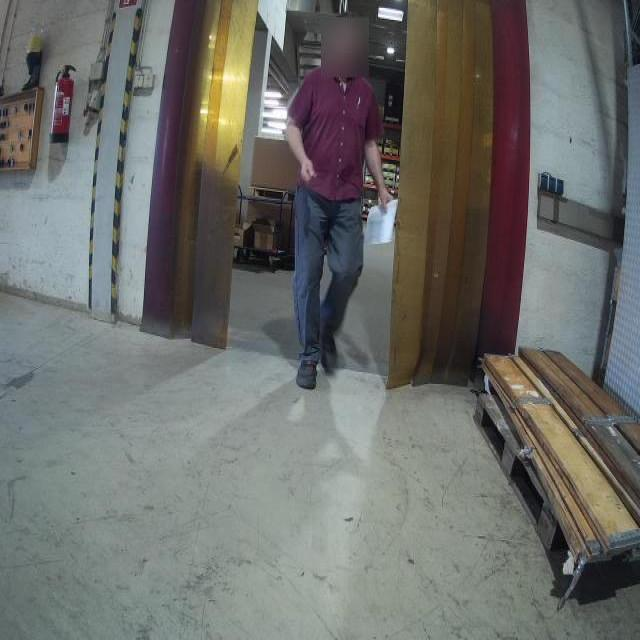pallet: (474, 388, 560, 554), (248, 185, 295, 205), (384, 144, 398, 150), (382, 168, 396, 174), (384, 152, 398, 157), (383, 176, 395, 181), (363, 203, 374, 208)
